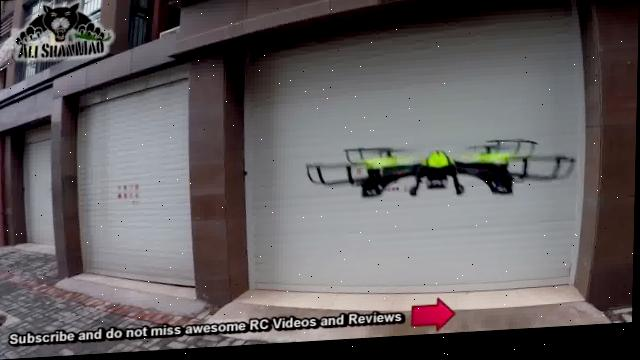drone: (317, 136, 580, 208)
